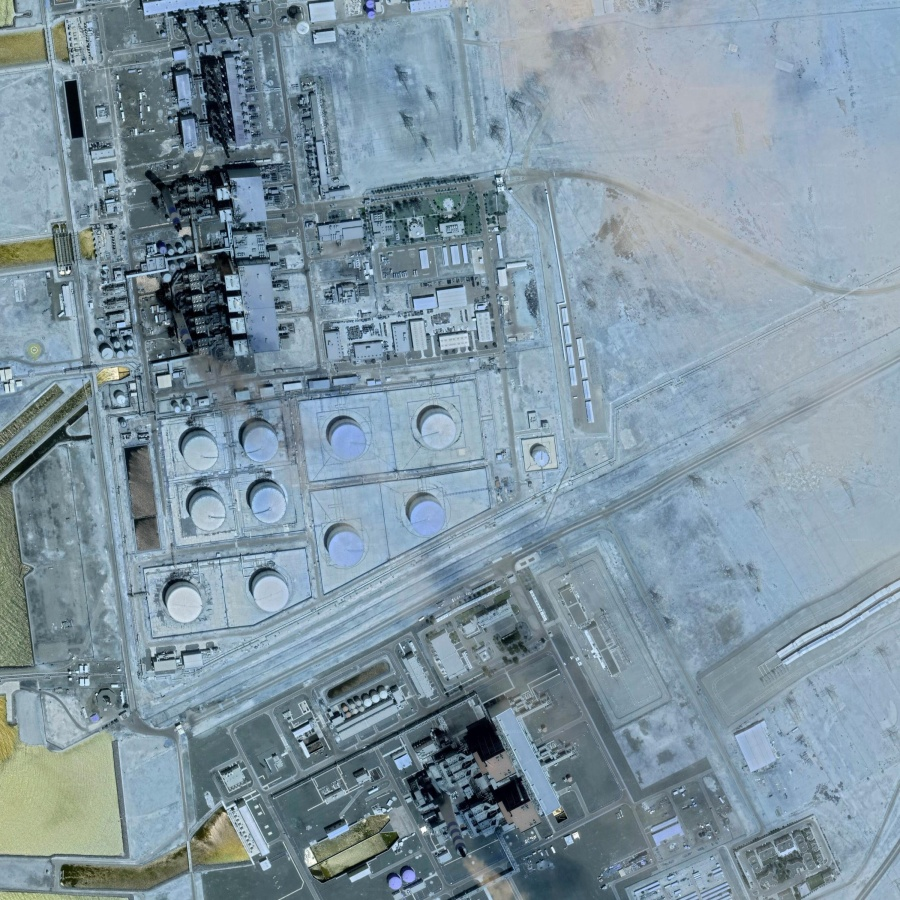PowerPlant: (112, 381, 492, 644), (92, 42, 314, 358)
